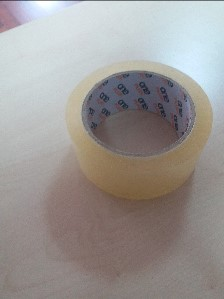band: (63, 55, 220, 203)
